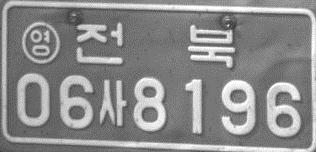0: (15, 71, 51, 129)
1: (176, 78, 212, 135)
6: (58, 73, 95, 130), (265, 81, 302, 138)
8: (131, 77, 167, 131)
9: (219, 79, 256, 134)
사: (99, 78, 127, 128)
영: (20, 20, 61, 66)
전북_D: (75, 22, 236, 68)
